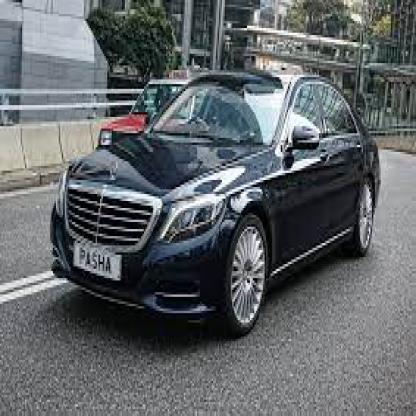car: (47, 70, 387, 337)
